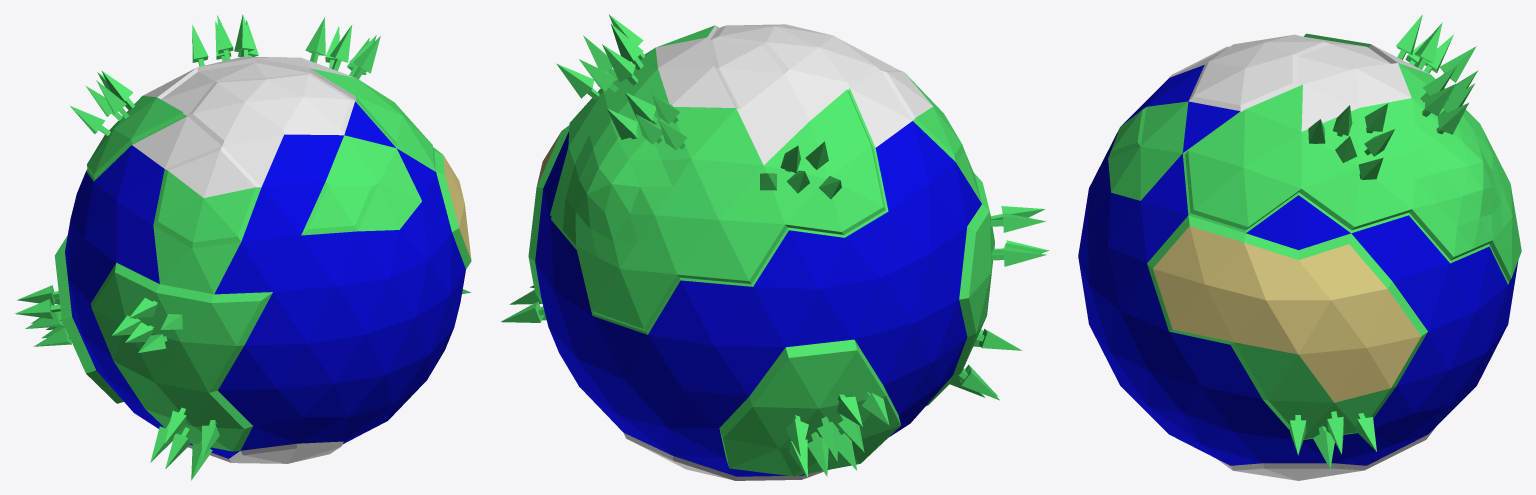
File: MainMenuEarth.fbx
3 views of the same model, side by side, from view 1: azimuth 30°, elevation 25°; view 2: azimuth 150°, elevation 25°; view 3: azimuth 270°, elevation 25° (orthographic). The views are drawn at different scales.
Visible parts, largest first — view 1: Cube.011; view 2: Cube.011; view 3: Cube.011.
Part boxes in pixels (left/top/right/bottom): Cube.011: left=15, top=14, right=471, bottom=480; Cube.011: left=501, top=14, right=1049, bottom=480; Cube.011: left=1078, top=14, right=1521, bottom=480.
Size of the model in its own units: 234 by 207 by 201.
